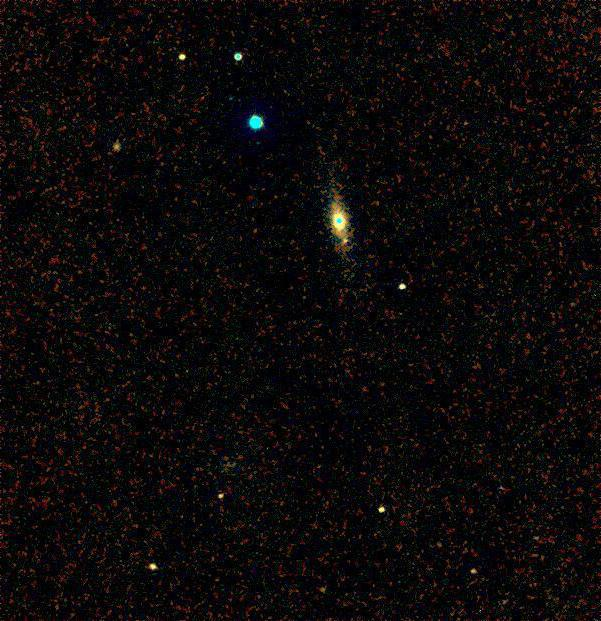star: (328, 226, 358, 256)
